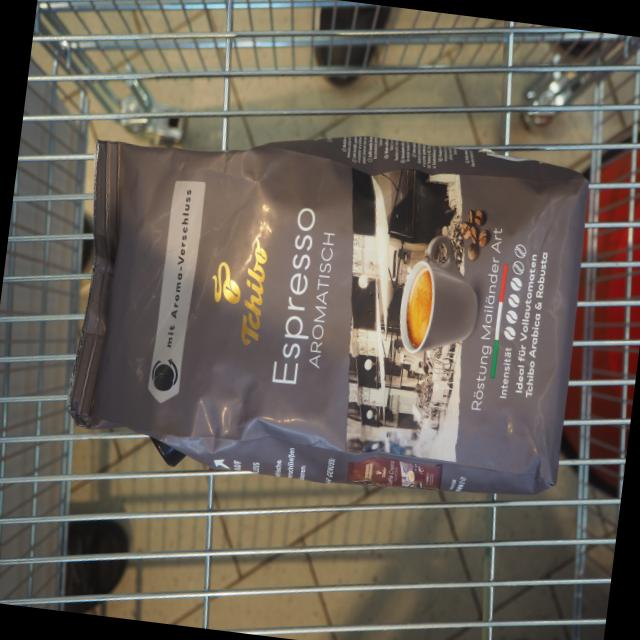Espresso Aromatisch: (49, 94, 604, 523)
